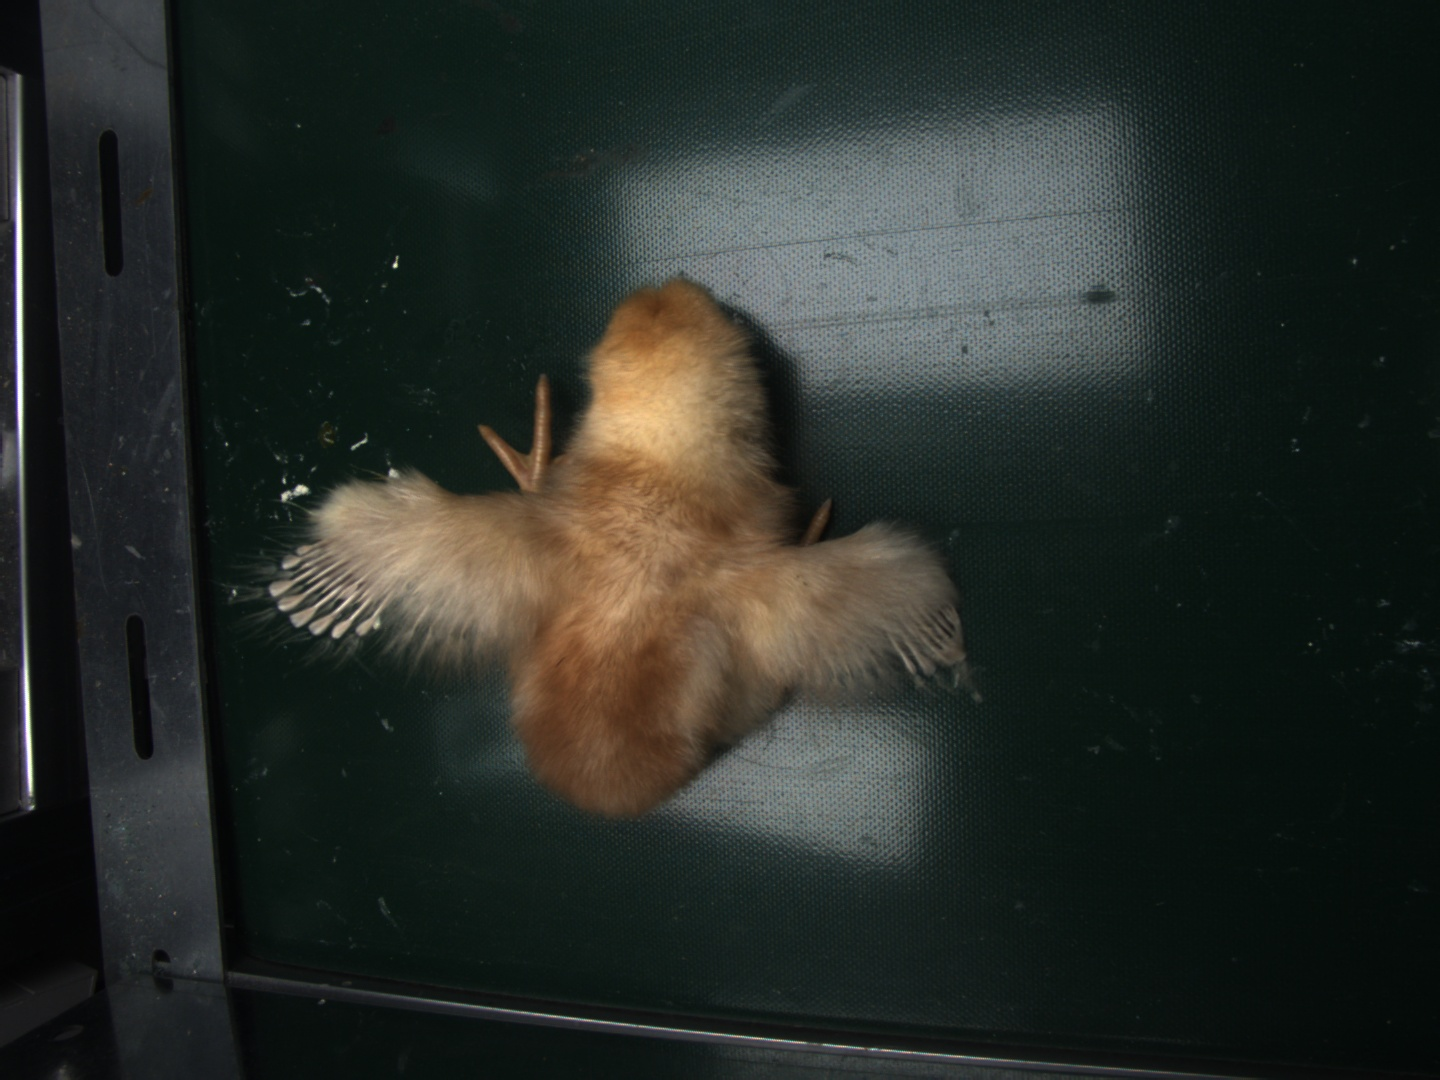female: (273, 542, 386, 640)
